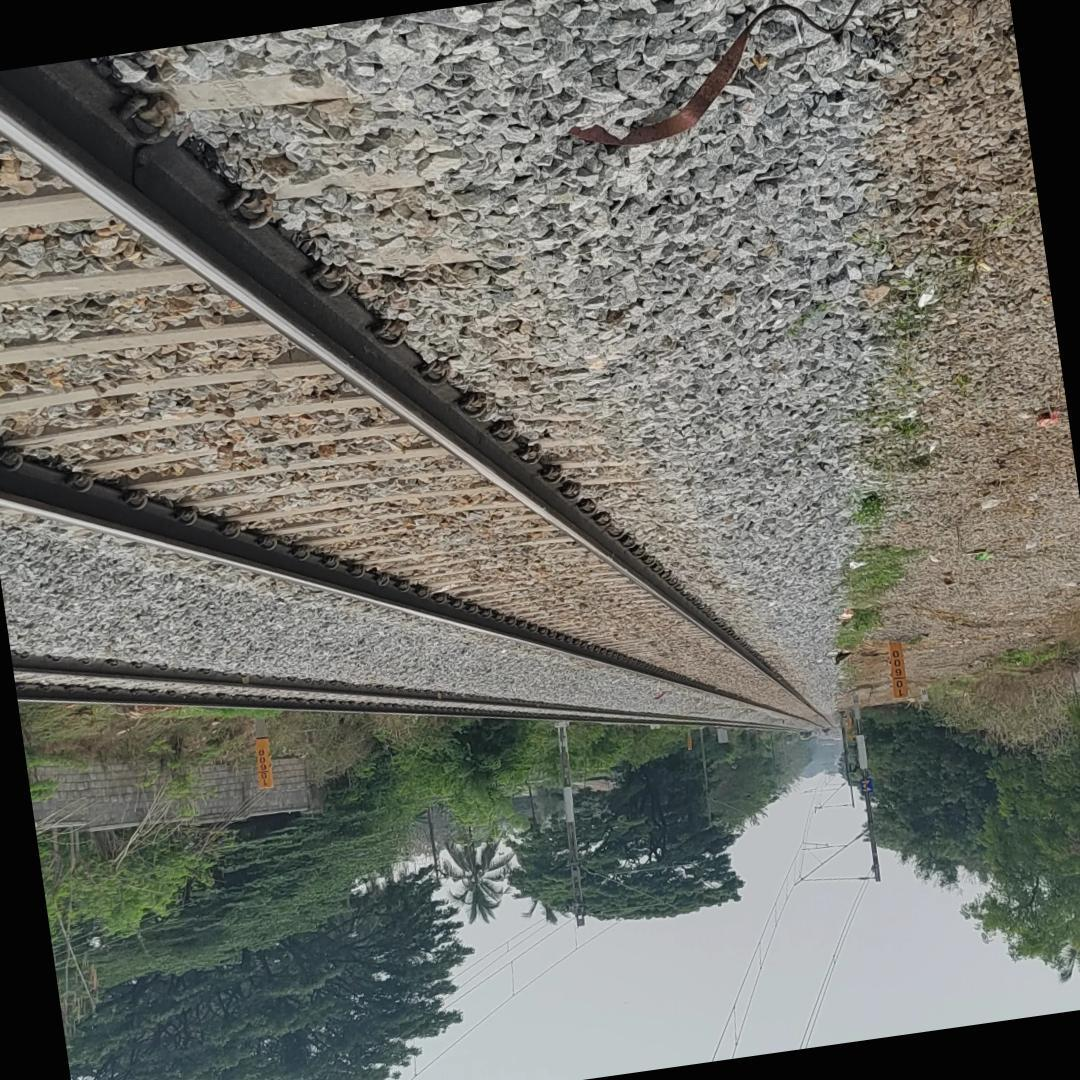track: (0, 36, 838, 733)
